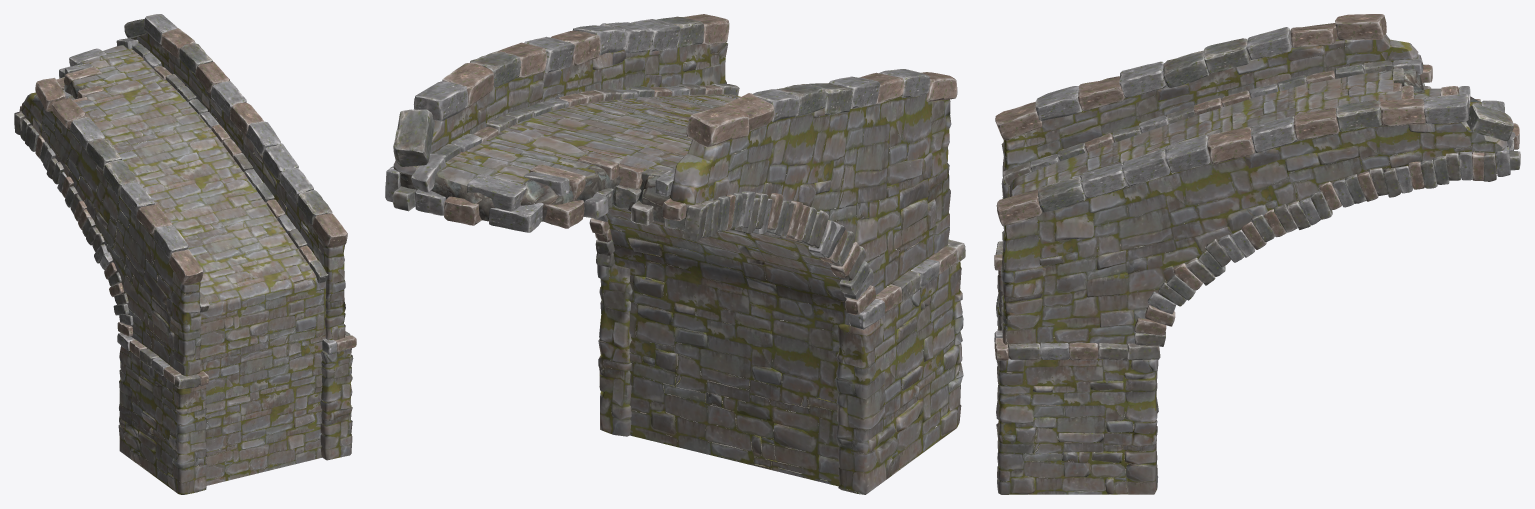
The picture shows the model from 3 angles, left to right: view 1: azimuth 30°, elevation 25°; view 2: azimuth 150°, elevation 25°; view 3: azimuth 270°, elevation 25°; orthographic projection. The views are drawn at different scales.
Visible parts, largest first — view 1: SM_River_Bridge_01v3_LOD0; view 2: SM_River_Bridge_01v3_LOD0; view 3: SM_River_Bridge_01v3_LOD0.
Part boxes in pixels (x1,y1,x2,y2): SM_River_Bridge_01v3_LOD0: [14, 14, 356, 494]; SM_River_Bridge_01v3_LOD0: [385, 14, 965, 494]; SM_River_Bridge_01v3_LOD0: [994, 14, 1520, 494].
Size of the model in its own units: 5.54 by 9.19 by 11.3.
3 materials, 3 textured.
